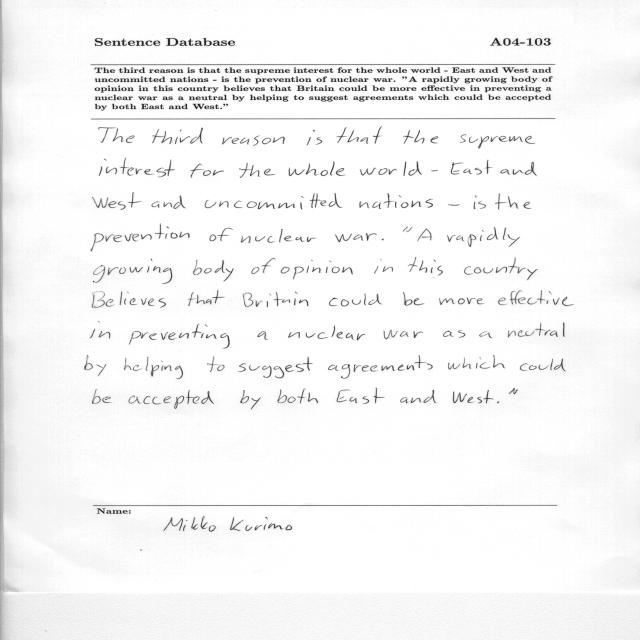word: (91, 224, 189, 251), (129, 324, 230, 349), (328, 355, 433, 379), (205, 193, 342, 209), (93, 258, 172, 284), (464, 258, 538, 281), (129, 390, 214, 409), (238, 357, 313, 378), (447, 227, 520, 247), (99, 158, 175, 177), (281, 260, 353, 279), (124, 357, 183, 379), (92, 291, 166, 308), (498, 290, 574, 306), (359, 193, 433, 209), (288, 325, 365, 340), (460, 134, 535, 149), (241, 229, 316, 243), (243, 292, 308, 307), (360, 161, 422, 176), (193, 260, 234, 282), (289, 161, 346, 176), (508, 323, 565, 338), (448, 355, 505, 370), (93, 193, 142, 210), (152, 128, 203, 144), (336, 127, 382, 144), (337, 388, 385, 404), (329, 294, 382, 307), (222, 136, 285, 146), (408, 258, 443, 276), (451, 160, 492, 175), (278, 389, 319, 404), (495, 193, 531, 210), (99, 127, 135, 143), (189, 290, 225, 306), (520, 359, 566, 371), (240, 163, 276, 178), (453, 390, 493, 403), (500, 162, 537, 176), (190, 163, 224, 178), (404, 130, 439, 144), (151, 195, 186, 209), (401, 390, 437, 403), (85, 356, 106, 377), (240, 390, 261, 409), (252, 258, 276, 274), (335, 233, 377, 242), (90, 321, 110, 339), (384, 330, 423, 339), (439, 298, 484, 305), (210, 228, 234, 241), (403, 292, 424, 306), (207, 356, 225, 372), (374, 259, 393, 274), (92, 389, 111, 404), (307, 130, 322, 145), (417, 229, 432, 242), (443, 330, 465, 338), (473, 196, 486, 209), (257, 331, 268, 340), (479, 332, 492, 338), (403, 226, 412, 232), (509, 388, 518, 394), (448, 204, 460, 206), (431, 170, 438, 171), (381, 239, 384, 241), (497, 402, 499, 404)
